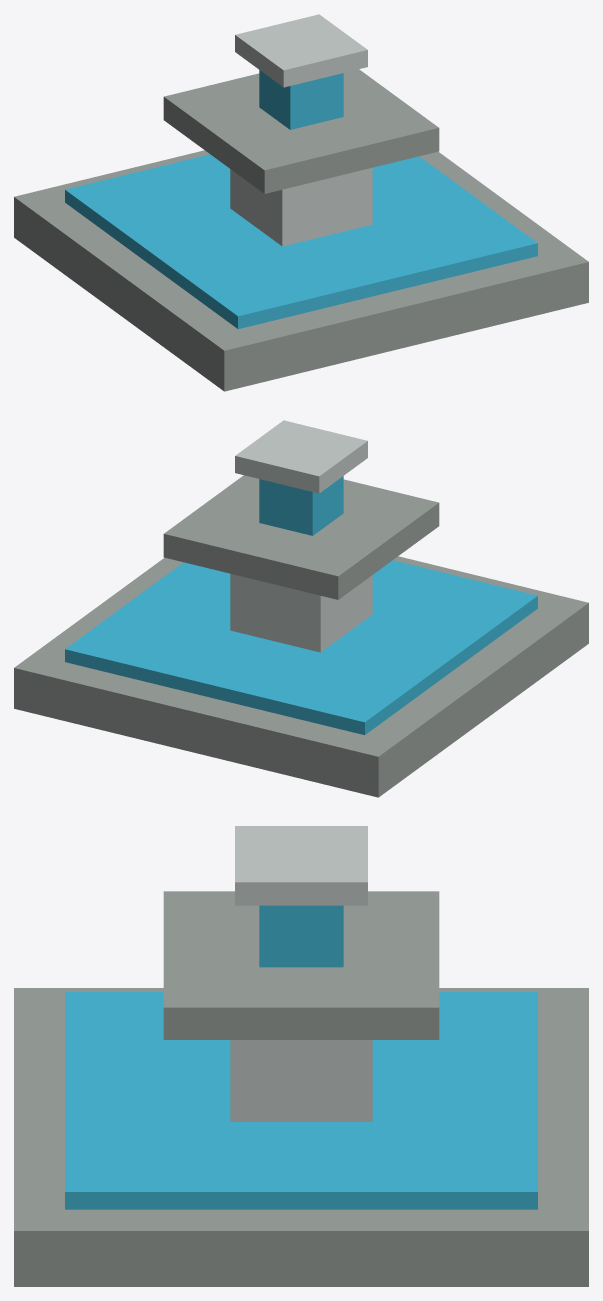
3 views of the same model, one above another, from view 1: azimuth 30°, elevation 25°; view 2: azimuth 150°, elevation 25°; view 3: azimuth 270°, elevation 25° (orthographic). The views are drawn at different scales.
Parts seen in each view (by area): view 1: water, square-basin, upper-basin, block-pedestal, top-cap, water-column; view 2: water, square-basin, upper-basin, block-pedestal, top-cap, water-column; view 3: water, square-basin, upper-basin, block-pedestal, top-cap, water-column.
Boxes of the visible parts, x1,y1,x2,y2 form: water: [65, 154, 537, 329]; square-basin: [14, 150, 588, 391]; upper-basin: [163, 69, 439, 193]; block-pedestal: [230, 167, 372, 246]; top-cap: [235, 14, 367, 87]; water-column: [259, 70, 343, 129]; water: [65, 560, 537, 735]; square-basin: [14, 556, 588, 797]; upper-basin: [163, 475, 439, 599]; block-pedestal: [230, 573, 372, 652]; top-cap: [235, 420, 367, 493]; water-column: [259, 476, 343, 535]; water: [65, 992, 537, 1209]; square-basin: [14, 988, 588, 1286]; upper-basin: [163, 891, 439, 1039]; block-pedestal: [230, 1040, 372, 1121]; top-cap: [235, 826, 367, 905]; water-column: [259, 905, 343, 967].
Bounding box in the file's own units: 3.55 × 2.12 × 3.55.
